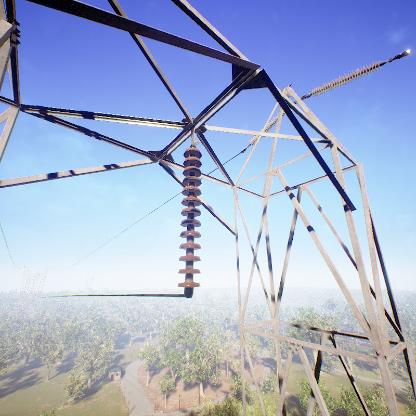insulator: (177, 146, 204, 291), (311, 59, 383, 97)
